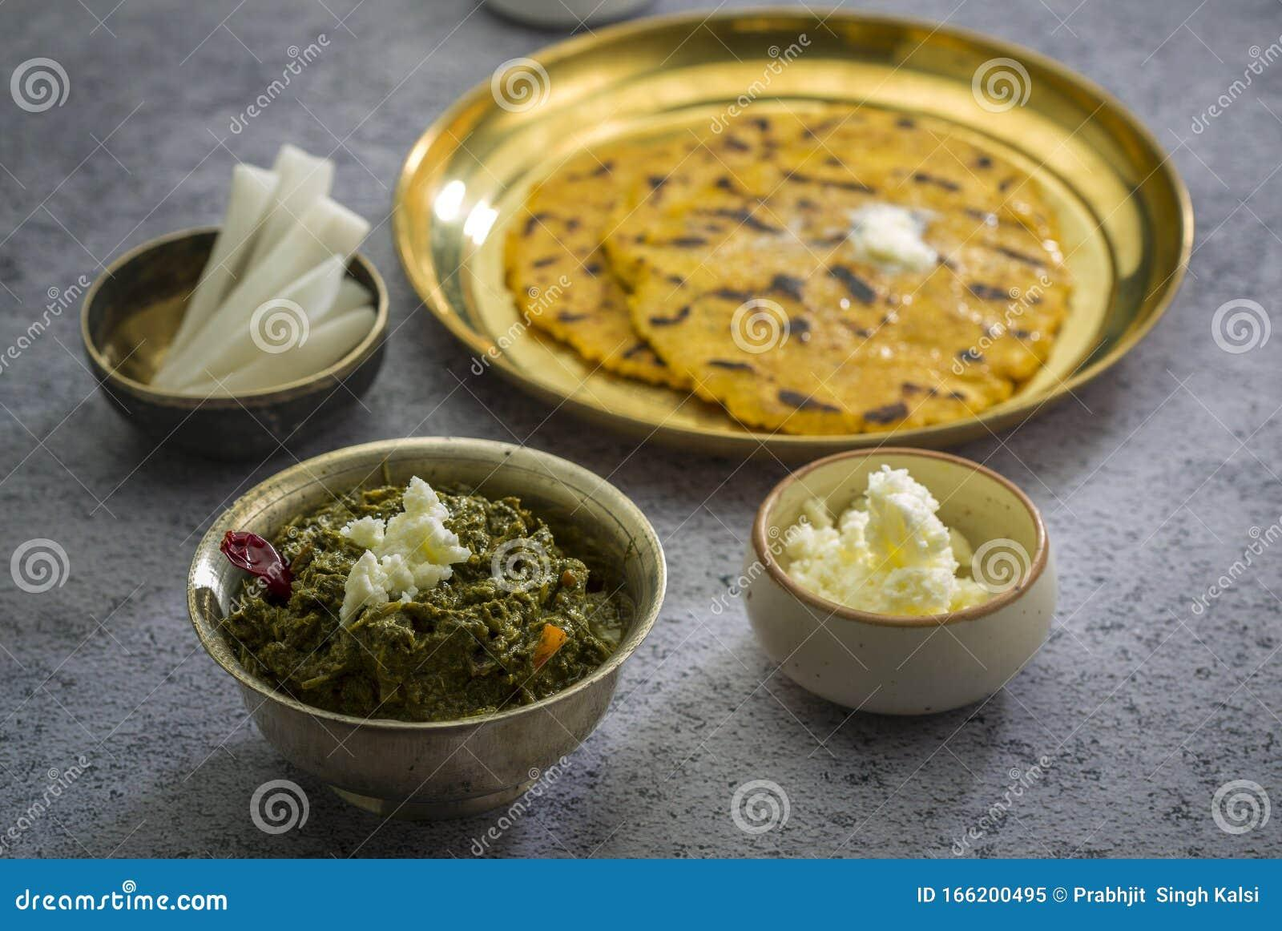saag: (231, 476, 628, 725)
